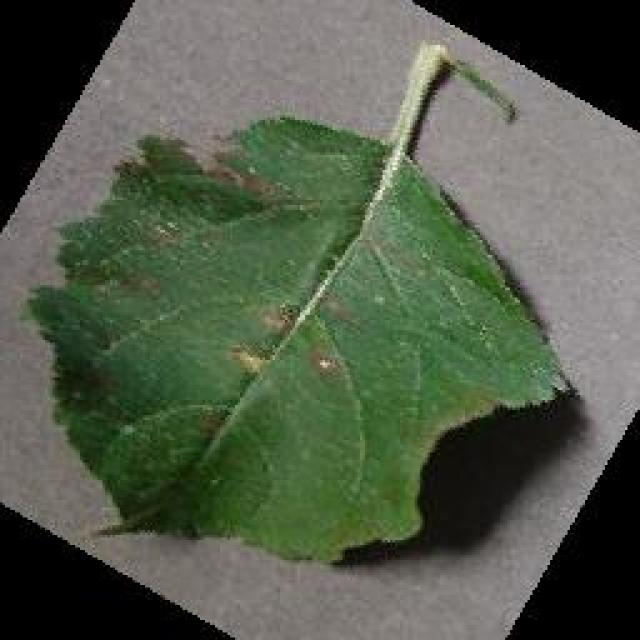apple healthy: (22, 37, 580, 565)
